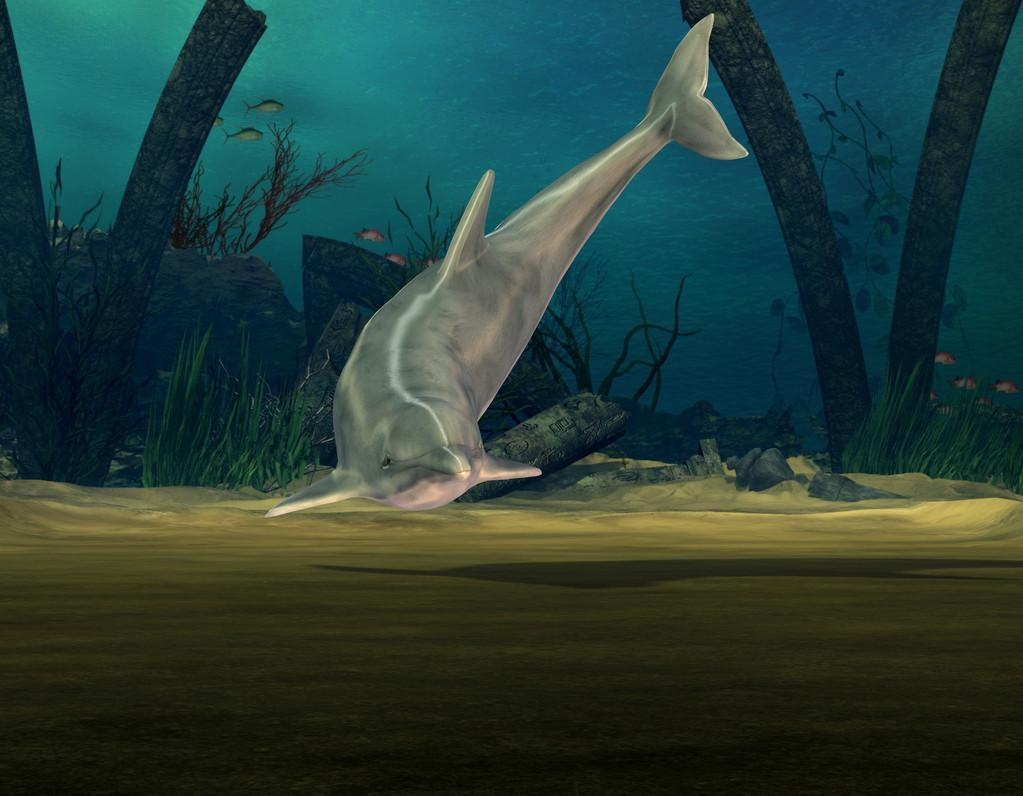fish: (269, 12, 750, 526)
